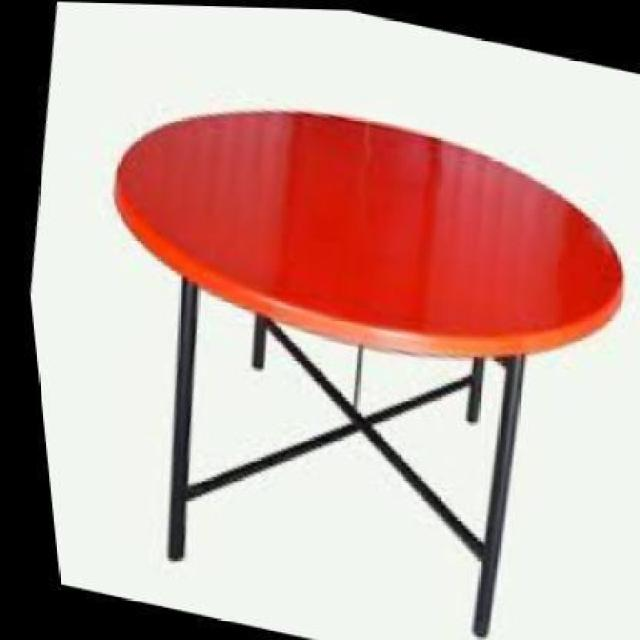tables: (110, 106, 624, 637)
